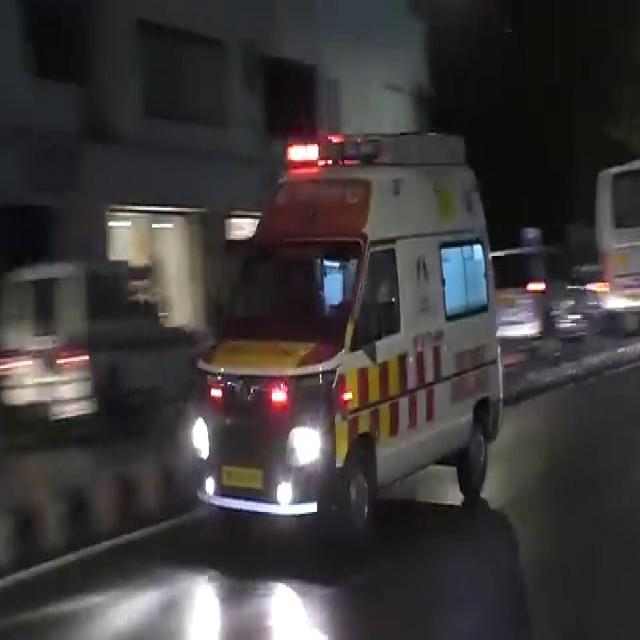ambulance: (203, 164, 521, 526)
